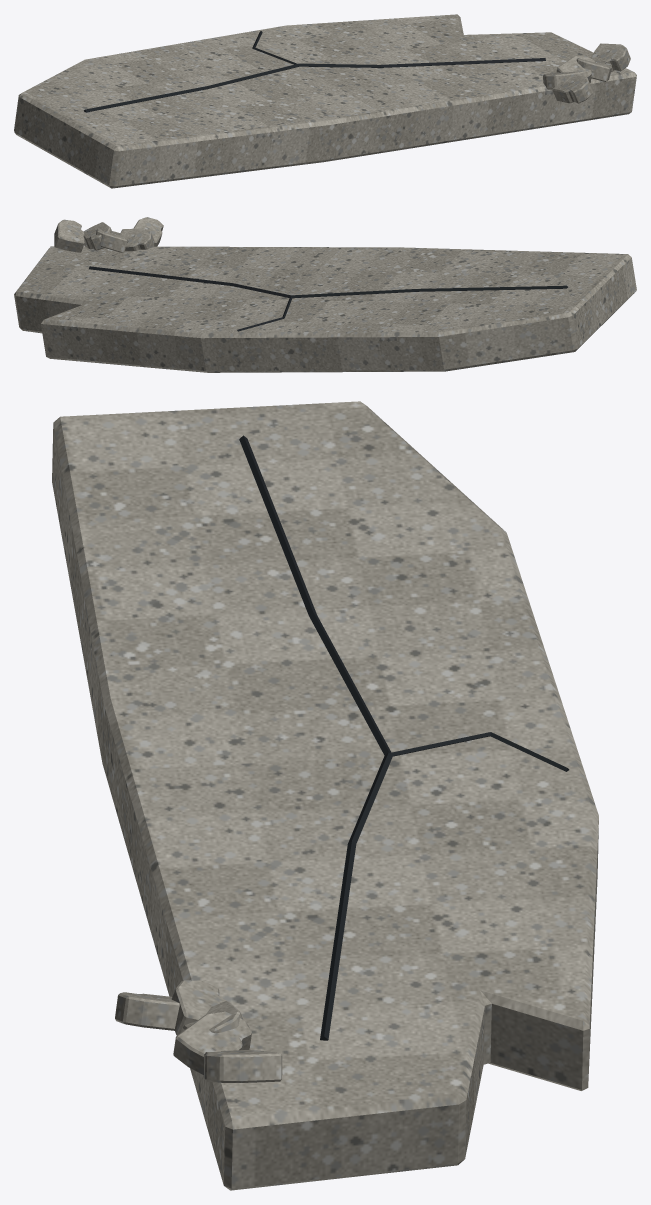
Rendered from cracked_slab_03.glb.
3 views of the same model, one above another, from view 1: azimuth 30°, elevation 25°; view 2: azimuth 150°, elevation 25°; view 3: azimuth 270°, elevation 25° (orthographic). The views are drawn at different scales.
Parts seen in each view (by area): view 1: cracked_slab_03__m7_concrete, cracked_slab_03__m7_dark_polymer; view 2: cracked_slab_03__m7_concrete, cracked_slab_03__m7_dark_polymer; view 3: cracked_slab_03__m7_concrete, cracked_slab_03__m7_dark_polymer.
Part boxes in pixels (box(x1,y1,x2,y2)): cracked_slab_03__m7_concrete: box(14, 14, 636, 188); cracked_slab_03__m7_dark_polymer: box(84, 31, 545, 112); cracked_slab_03__m7_concrete: box(14, 217, 636, 372); cracked_slab_03__m7_dark_polymer: box(89, 266, 567, 331); cracked_slab_03__m7_concrete: box(52, 401, 598, 1190); cracked_slab_03__m7_dark_polymer: box(239, 435, 569, 1040).
Bounding box in the file's own units: 1.83 × 0.4019 × 0.7717.
2 materials, 1 textured.
